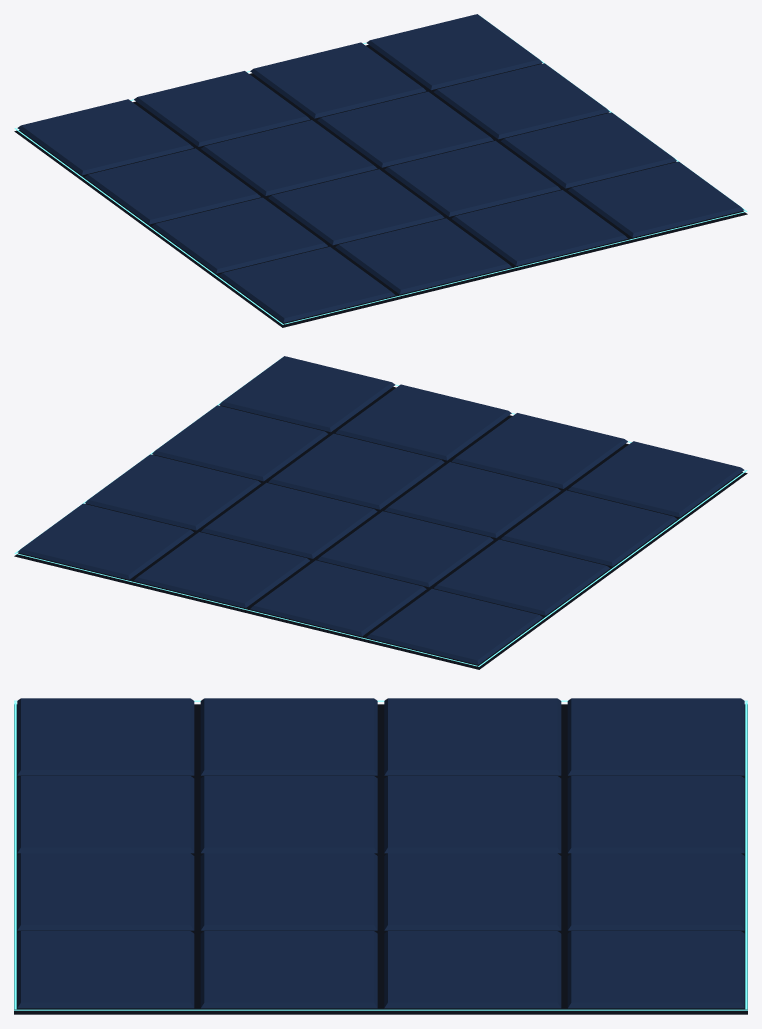
File: Seabed_Tile.fbx
3 renders of one model, top to bottom at view 1: azimuth 30°, elevation 25°; view 2: azimuth 150°, elevation 25°; view 3: azimuth 270°, elevation 25°, orthographic. The views are drawn at different scales.
Parts seen in each view (by area): view 1: KIT_Seabed_Tile_Mesh; view 2: KIT_Seabed_Tile_Mesh; view 3: KIT_Seabed_Tile_Mesh.
Part boxes in pixels (x1=…): KIT_Seabed_Tile_Mesh: x1=14, y1=14, x2=747, y2=327; KIT_Seabed_Tile_Mesh: x1=14, y1=356, x2=747, y2=669; KIT_Seabed_Tile_Mesh: x1=14, y1=698, x2=747, y2=1014.
Bounding box in the file's own units: 4 × 0.055 × 4.
